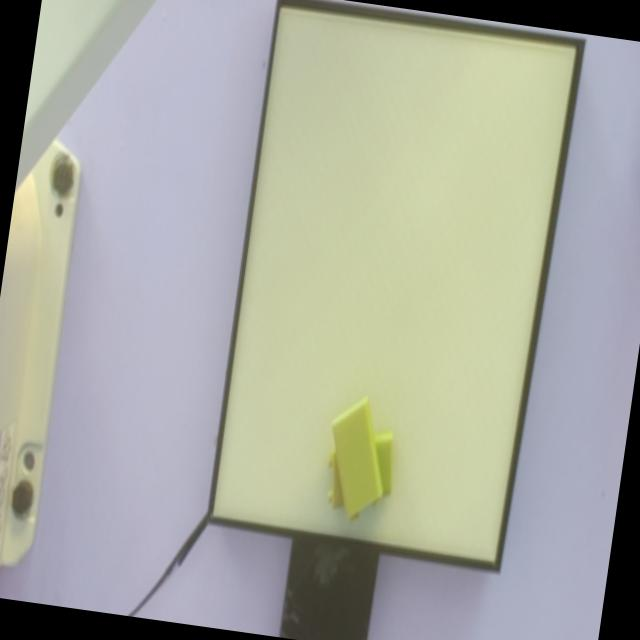bateria: (331, 397, 384, 524)
mesa: (206, 0, 586, 574)
